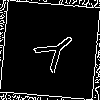Y: (25, 25, 81, 80)
